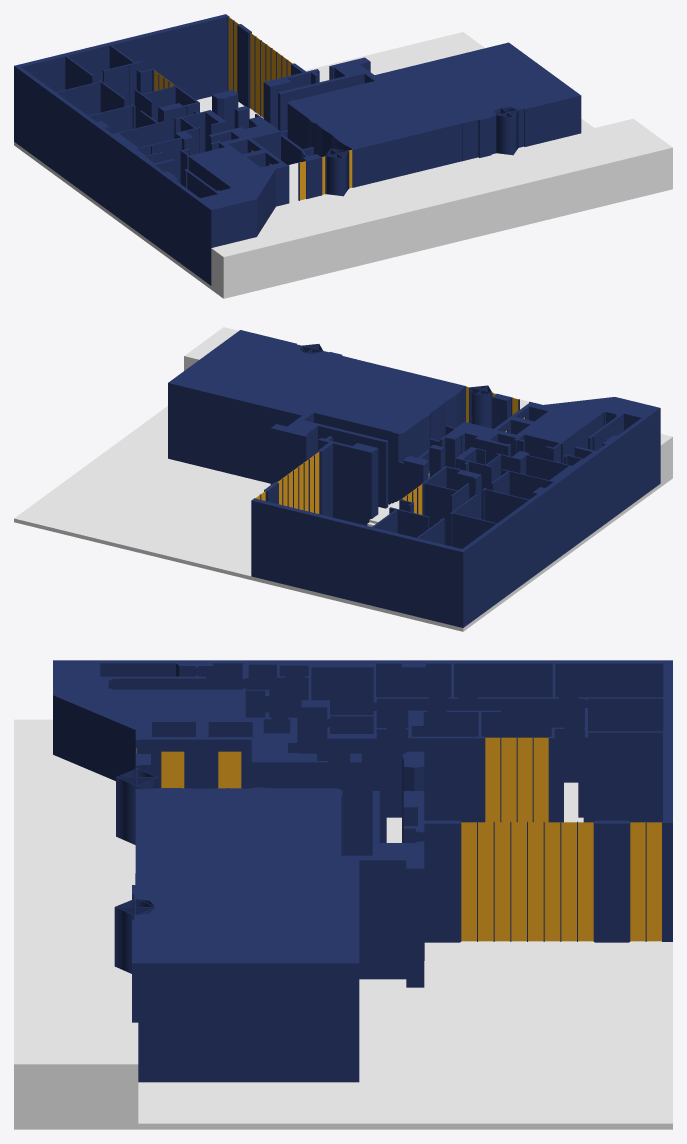
Rendered from 26W 1st Floor.fbx.
3 views of the same model, one above another, from view 1: azimuth 30°, elevation 25°; view 2: azimuth 150°, elevation 25°; view 3: azimuth 270°, elevation 25° (orthographic). The views are drawn at different scales.
Parts seen in each view (by area): view 1: Walls, Object_48, Object_49, Interior Member; view 2: Walls, Object_49, Interior Member, Object_48; view 3: Walls, Object_49, Object_48, Interior Member.
Boxes of the visible parts, x1,y1,x2,y2 form: Walls: (14, 14, 581, 285); Object_48: (211, 118, 672, 294); Object_49: (14, 32, 672, 298); Interior Member: (154, 17, 352, 200); Walls: (168, 330, 660, 627); Object_49: (14, 406, 672, 631); Interior Member: (256, 386, 524, 514); Object_48: (184, 327, 672, 482); Walls: (53, 660, 672, 1082); Object_49: (14, 782, 672, 1129); Object_48: (14, 719, 138, 1123); Interior Member: (136, 737, 661, 941).
Bounding box in the file's own units: 1490 × 1205 × 290.
